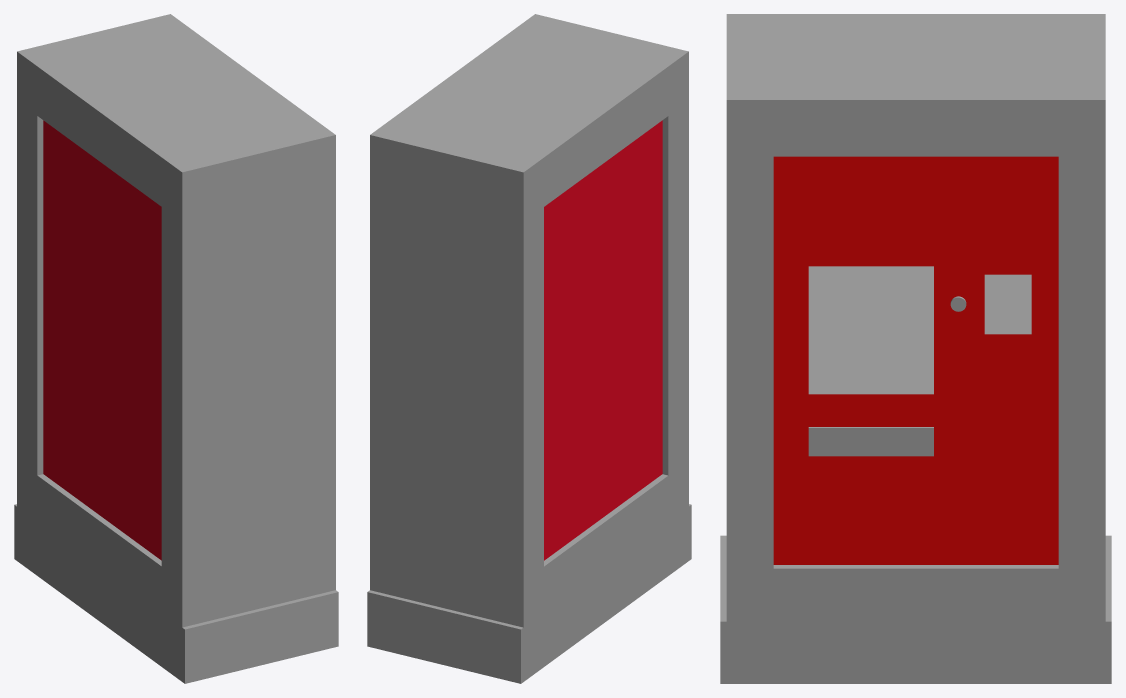
Rendered from kvbTicketautomat.fbx.
3 views of the same model, side by side, from view 1: azimuth 30°, elevation 25°; view 2: azimuth 150°, elevation 25°; view 3: azimuth 270°, elevation 25° (orthographic). The views are drawn at different scales.
Parts seen in each view (by area): view 1: seite l, haupt, oben, unten, seite r, untenoben; view 2: seite r, haupt, oben, unten, seite l, untenoben; view 3: hauptvorderseite, oben, seite l, seite r, unten, untenoben, hellticket.001, ticketglas, kleineinkerb.001.
Boxes of the visible parts, bbox=[...] form: seite l: bbox=[161, 122, 335, 627]; haupt: bbox=[43, 120, 161, 560]; oben: bbox=[35, 27, 317, 208]; unten: bbox=[14, 504, 338, 683]; seite r: bbox=[17, 14, 187, 521]; untenoben: bbox=[35, 474, 164, 614]; seite r: bbox=[370, 122, 543, 627]; haupt: bbox=[544, 120, 662, 560]; oben: bbox=[388, 27, 670, 208]; unten: bbox=[367, 504, 691, 683]; seite l: bbox=[518, 14, 688, 521]; untenoben: bbox=[541, 474, 670, 617]; hauptvorderseite: bbox=[773, 156, 1058, 564]; oben: bbox=[767, 14, 1064, 156]; seite l: bbox=[726, 14, 773, 621]; seite r: bbox=[1058, 14, 1105, 621]; unten: bbox=[720, 535, 1111, 683]; untenoben: bbox=[773, 565, 1064, 625]; hellticket.001: bbox=[808, 266, 933, 394]; ticketglas: bbox=[808, 427, 933, 456]; kleineinkerb.001: bbox=[984, 274, 1031, 334].
Size of the model in its own units: 65 by 206 by 125.
